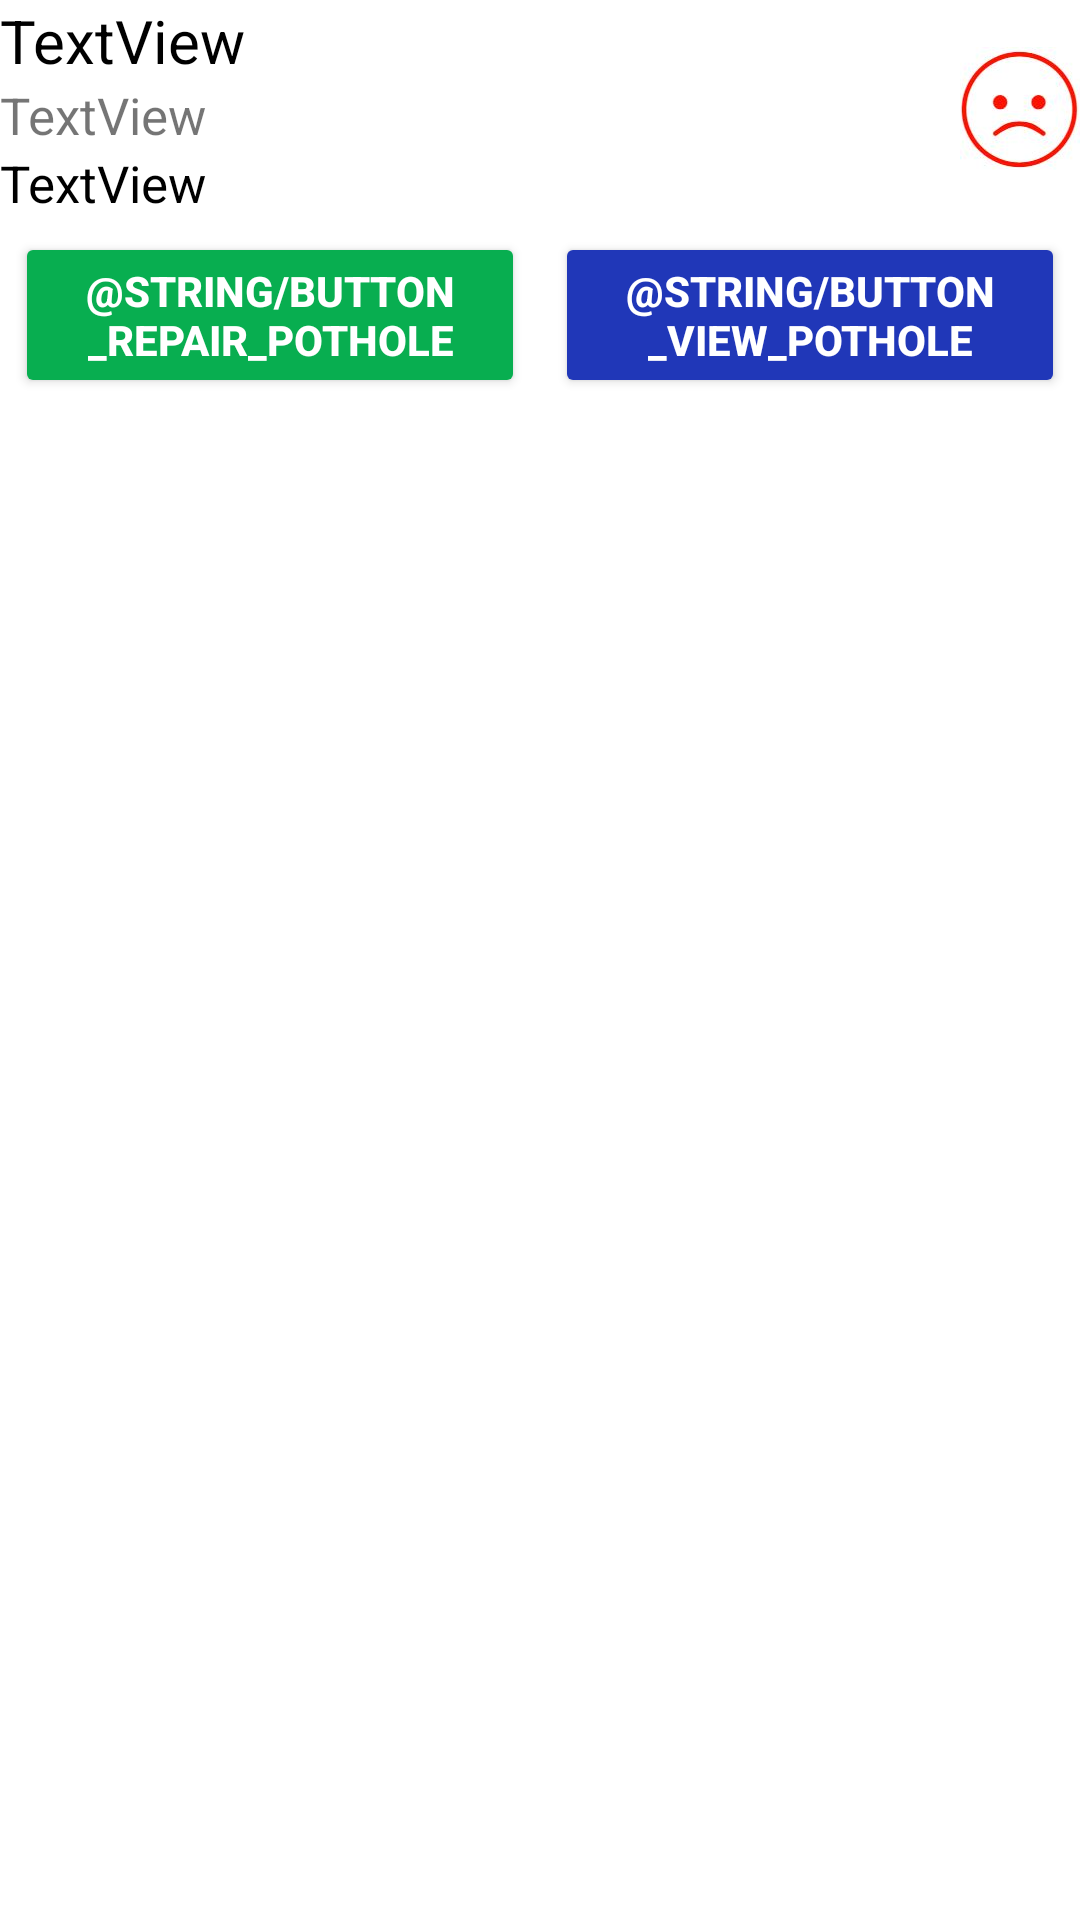

Screen size 1080x1920. Icon name, then its center in pixels as point (x, y):
sad: point (1019, 109)
